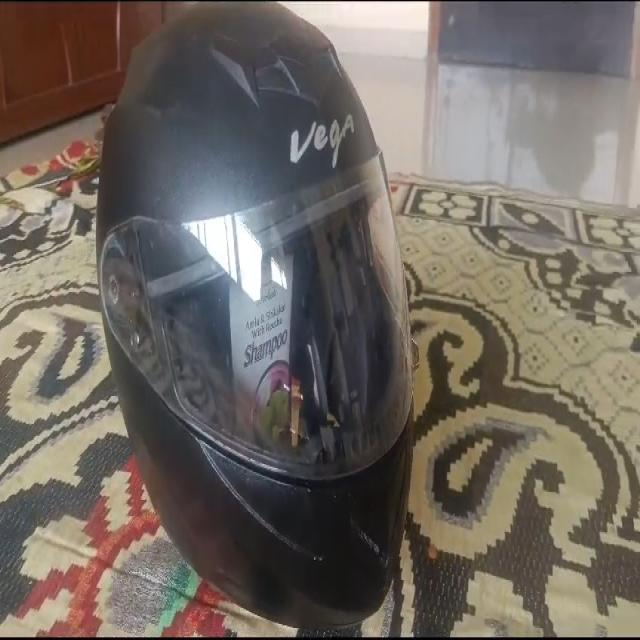Helmet: (96, 7, 414, 626)
